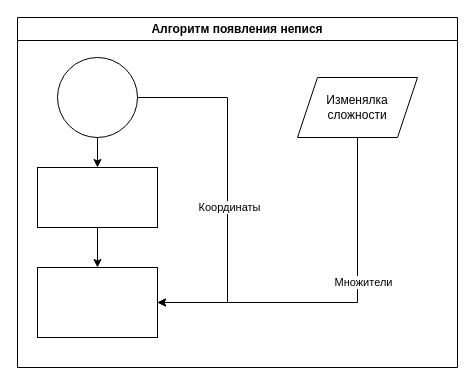
This 475x385 diagram has some shape labels left out. Here are the shapes that lost their labels. From the top down, the centre of each, then its label:
At (97,197): "Определить случайным образом тип генерируемого врага".
At (97,302): "В выбранных координатах создать непися".
